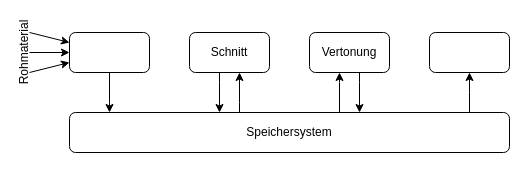
Some shapes in this 527 by 170 pixel diagram are drawn without their labels. The shapes that lost their labels are listed below. From the top down, each one's box as (x1, y1, x2, y2) in pixels, then its label:
(68, 32, 150, 72): Ingest
(428, 32, 510, 72): Ausstrahlung
